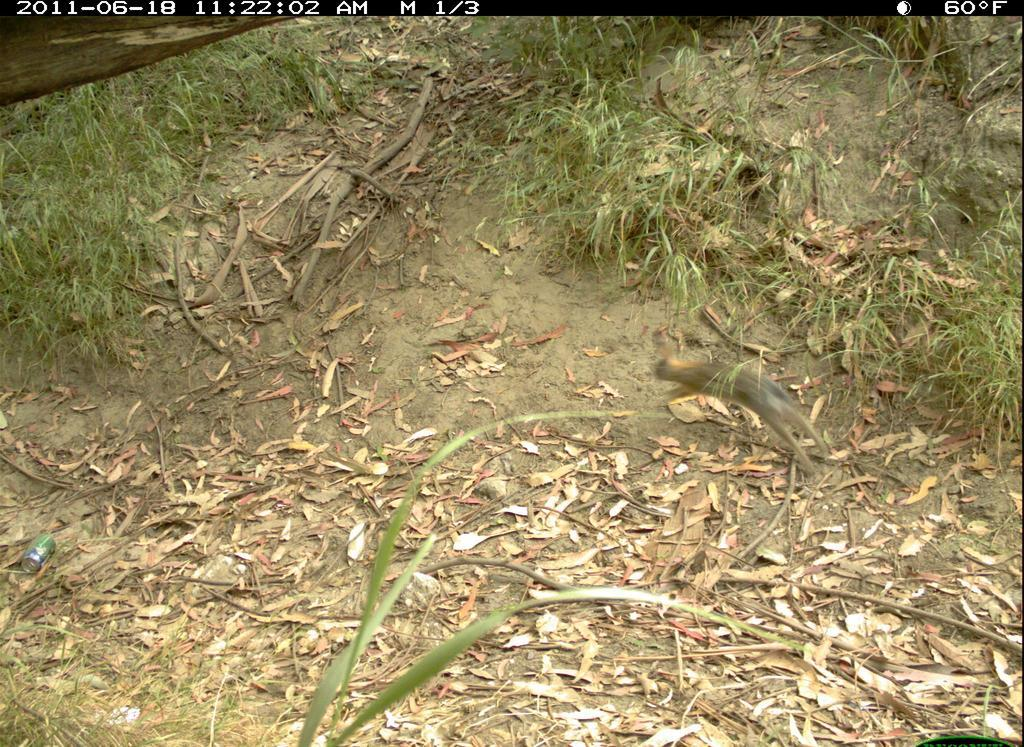rabbit: (633, 314, 854, 495)
